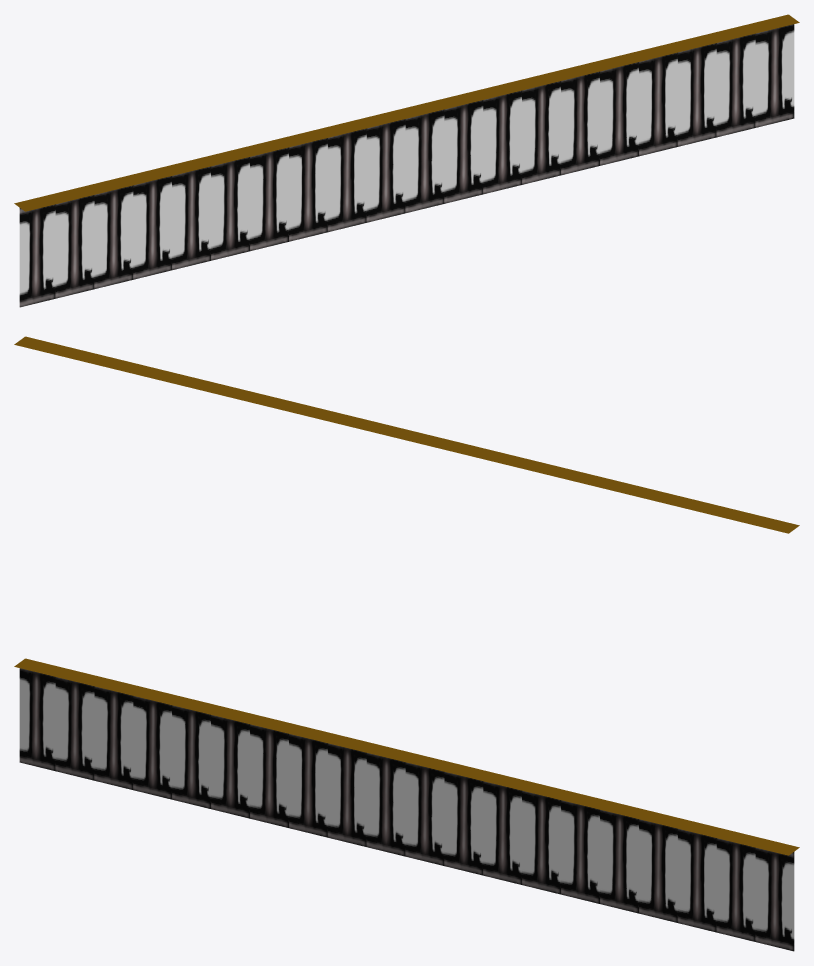
The model's file is Geländer4Hoch_962.glb.
The picture shows the model from 3 angles, top to bottom: view 1: azimuth 30°, elevation 25°; view 2: azimuth 150°, elevation 25°; view 3: azimuth 330°, elevation 25°; orthographic projection.
Visible parts, largest first — view 1: pPlaneShape223, pPlaneShape224; view 2: pPlaneShape224; view 3: pPlaneShape223, pPlaneShape224.
Part boxes in pixels (<box>): pPlaneShape223: <box>19,24,794,307</box>; pPlaneShape224: <box>14,14,799,211</box>; pPlaneShape224: <box>14,336,799,533</box>; pPlaneShape223: <box>19,668,794,951</box>; pPlaneShape224: <box>14,658,799,855</box>.
Size of the model in its own units: 0.9614 by 0.1185 by 0.0243.
2 materials, 1 textured.
